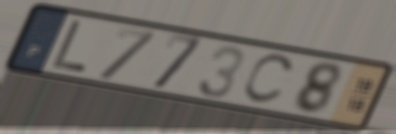3: (198, 44, 246, 99)
7: (97, 25, 158, 81), (151, 31, 205, 94)
8: (291, 60, 345, 117)
C: (239, 53, 299, 107)
L: (49, 18, 90, 75)
